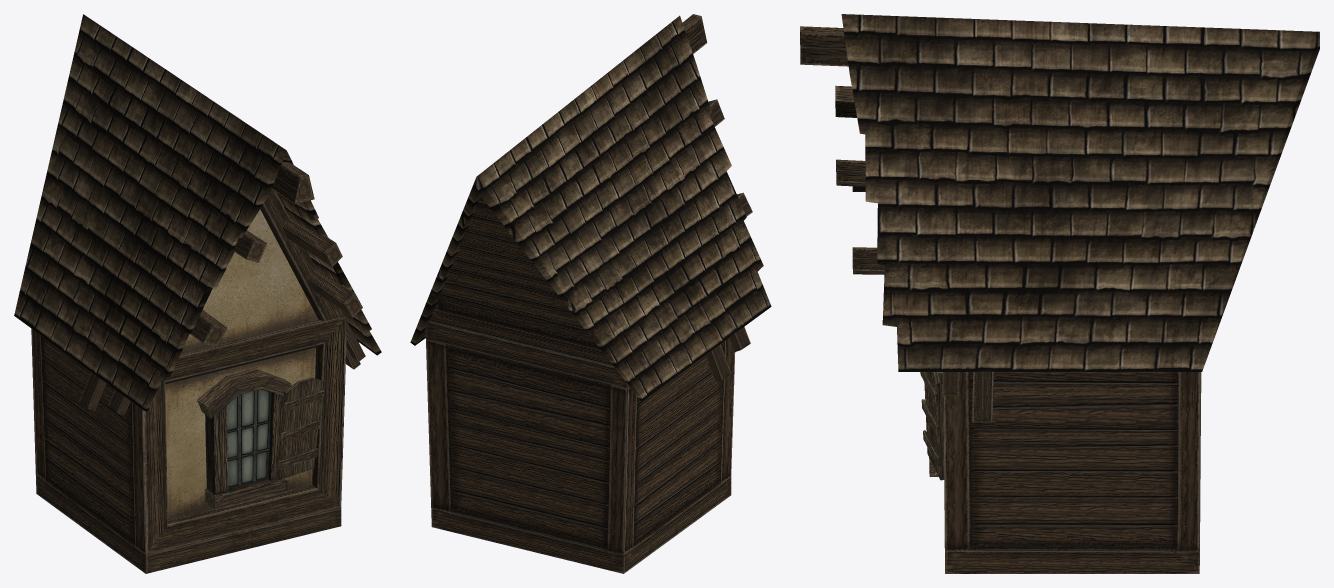
File: Window_a08.fbx
3 renders of one model, left to right at view 1: azimuth 30°, elevation 25°; view 2: azimuth 150°, elevation 25°; view 3: azimuth 270°, elevation 25°, orthographic. The views are drawn at different scales.
Parts seen in each view (by area): view 1: Window_a08; view 2: Window_a08; view 3: Window_a08.
Boxes of the visible parts, left/top/right/bottom form: Window_a08: left=14, top=14, right=381, bottom=573; Window_a08: left=410, top=14, right=771, bottom=573; Window_a08: left=800, top=14, right=1319, bottom=573.
Bounding box in the file's own units: 3.87 × 6.26 × 5.85.
